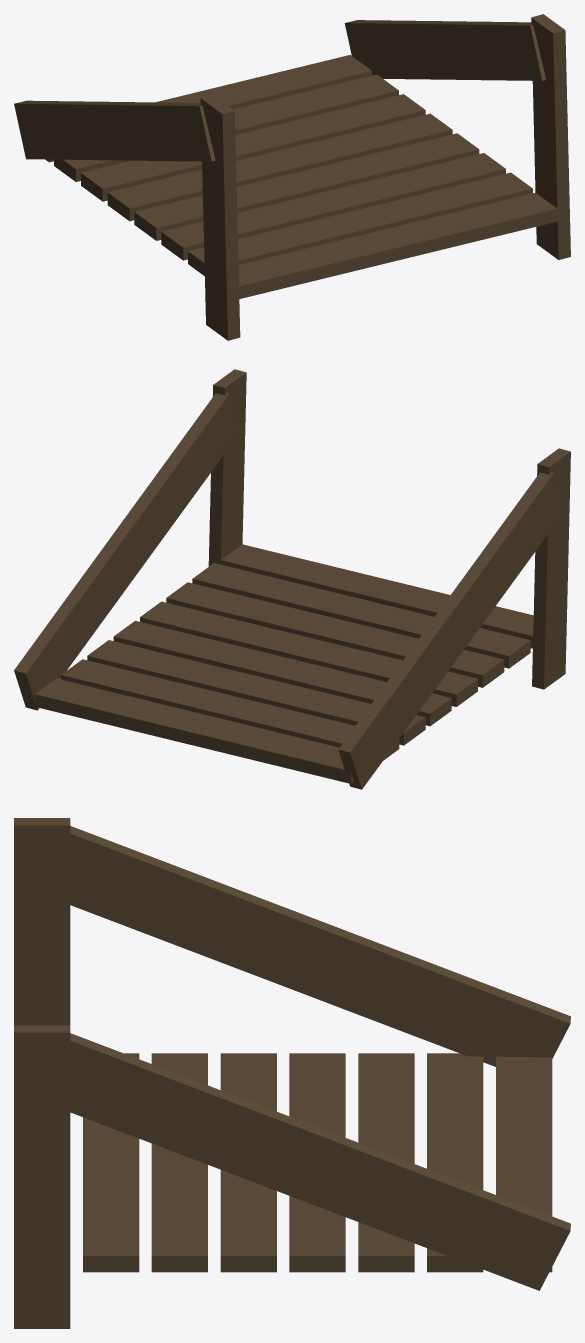
Rendered from bridge.fbx.
3 views of the same model, one above another, from view 1: azimuth 30°, elevation 25°; view 2: azimuth 150°, elevation 25°; view 3: azimuth 270°, elevation 25° (orthographic). The views are drawn at different scales.
Parts seen in each view (by area): view 1: Cube, Cube.004, Cube.003, Cube.002, Cube.001; view 2: Cube, Cube.004, Cube.003, Cube.002, Cube.001; view 3: Cube, Cube.003, Cube.004, Cube.001, Cube.002.
Part boxes in pixels (bbox=[...]): Cube: bbox=[45, 55, 557, 299]; Cube.004: bbox=[14, 100, 215, 161]; Cube.003: bbox=[344, 20, 546, 80]; Cube.002: bbox=[200, 95, 240, 340]; Cube.001: bbox=[531, 14, 570, 259]; Cube: bbox=[34, 544, 535, 783]; Cube.004: bbox=[338, 472, 565, 789]; Cube.003: bbox=[14, 393, 241, 710]; Cube.002: bbox=[532, 448, 570, 689]; Cube.001: bbox=[208, 369, 246, 566]; Cube: bbox=[83, 1053, 552, 1272]; Cube.003: bbox=[70, 1033, 570, 1290]; Cube.004: bbox=[70, 826, 570, 1066]; Cube.001: bbox=[14, 1025, 70, 1328]; Cube.002: bbox=[14, 818, 70, 1025].
Bounding box in the file's own units: 1862 × 1147 × 1974.
